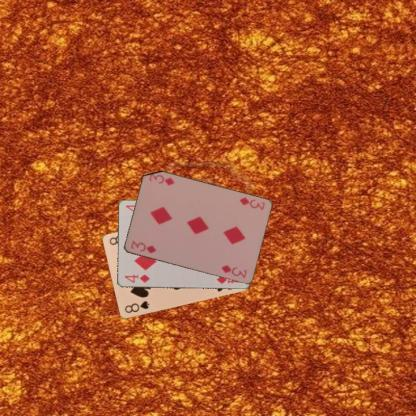3d: (236, 194, 266, 212), (128, 238, 158, 255)
4d: (122, 272, 150, 284)
8s: (122, 298, 150, 314)
